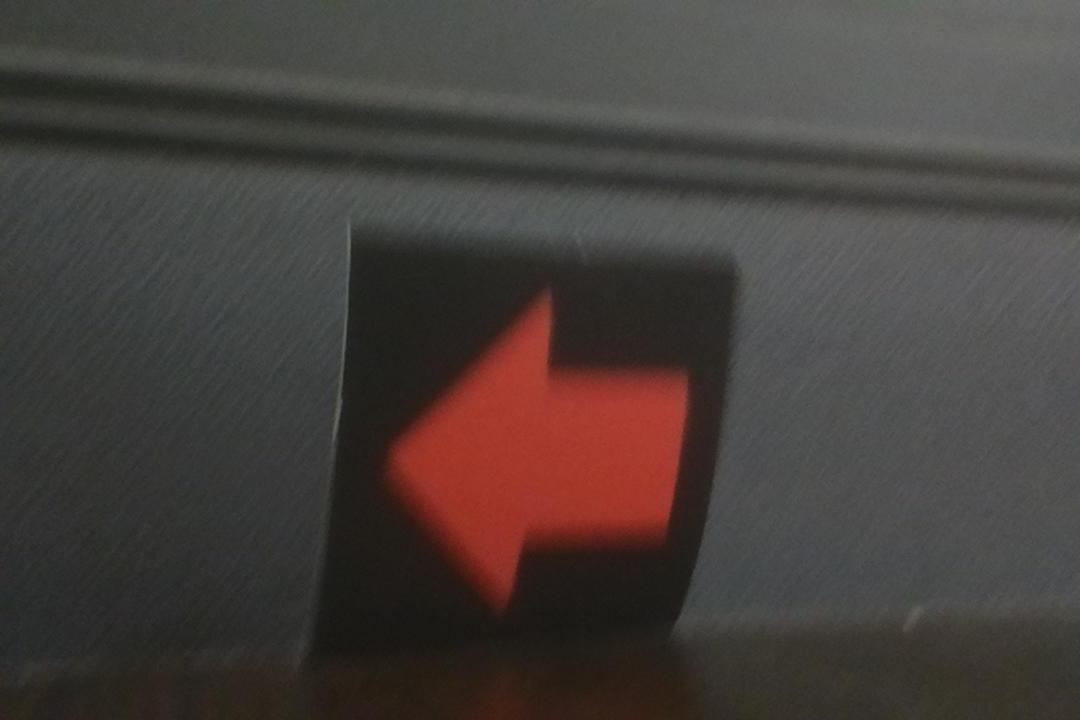left: (345, 226, 703, 645)
